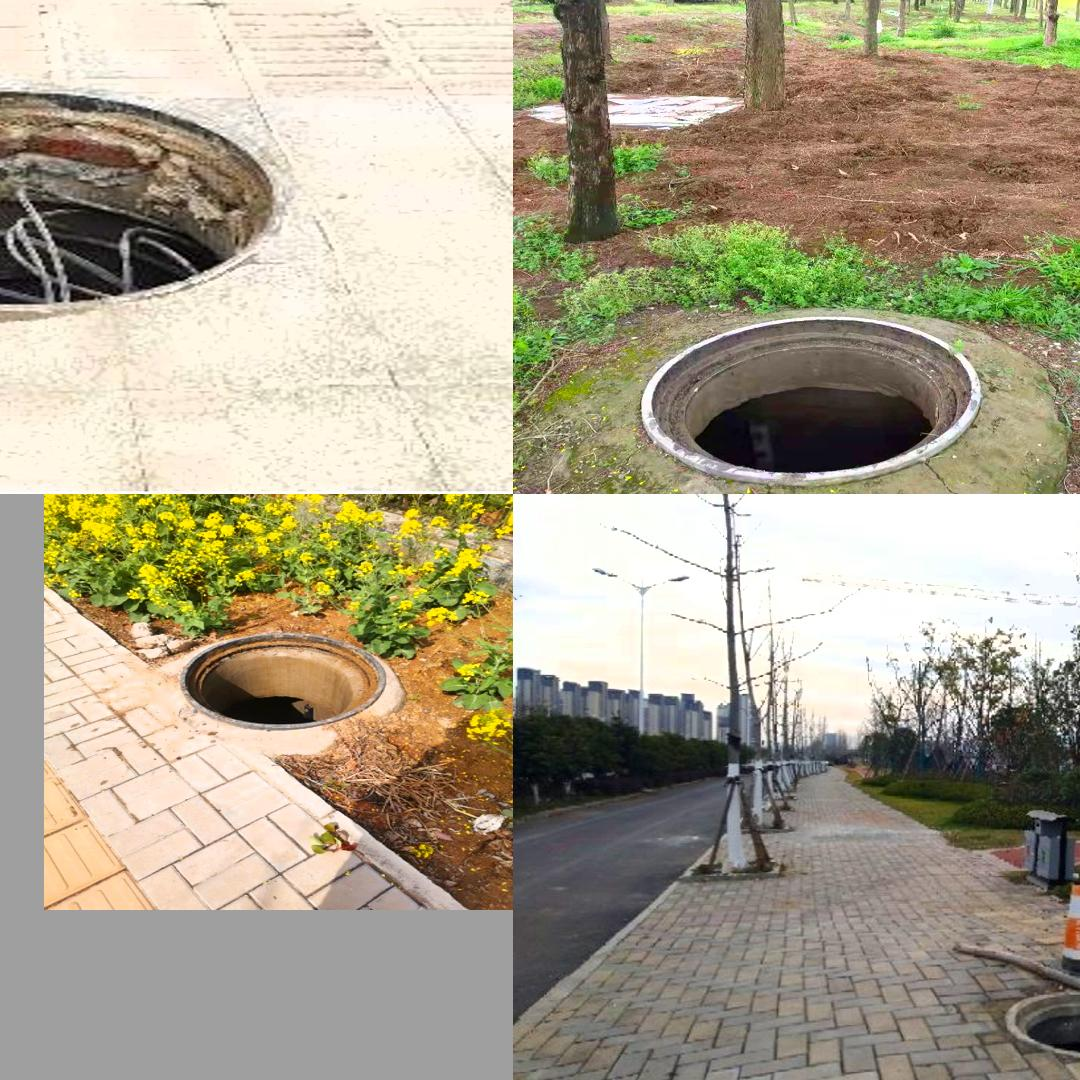lose: (0, 66, 319, 327), (638, 316, 985, 484), (164, 621, 395, 729), (1002, 992, 1080, 1061)
